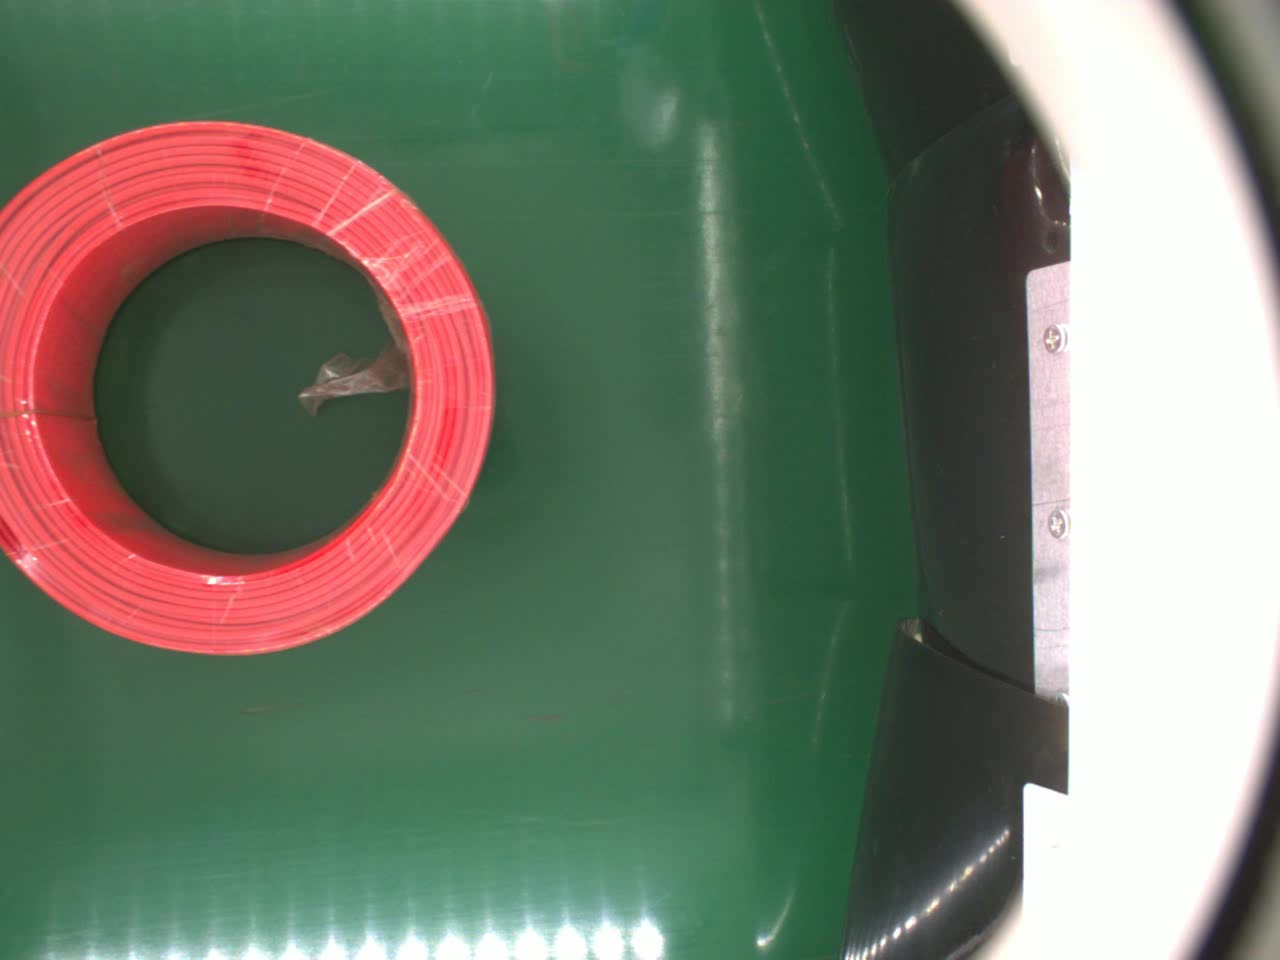red: (0, 119, 501, 656)
